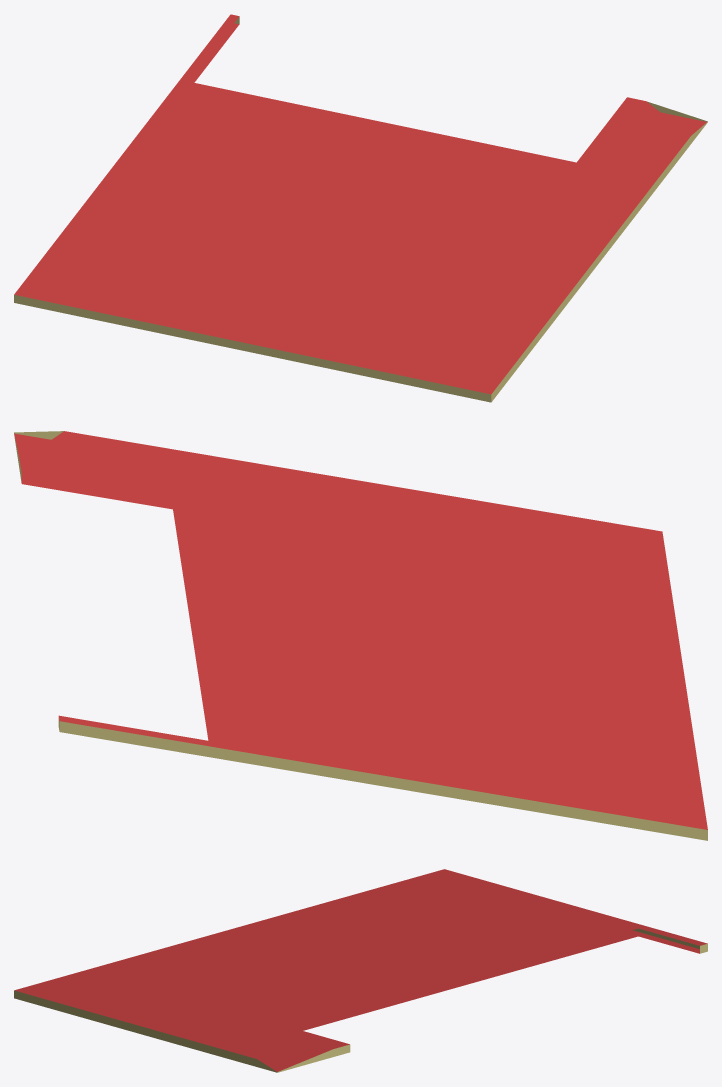
3 renders of one model, top to bottom at view 1: azimuth 30°, elevation 25°; view 2: azimuth 150°, elevation 25°; view 3: azimuth 270°, elevation 25°, orthographic. The views are drawn at different scales.
Size of the model in its own units: 7.78 by 7.92 by 1.26.
